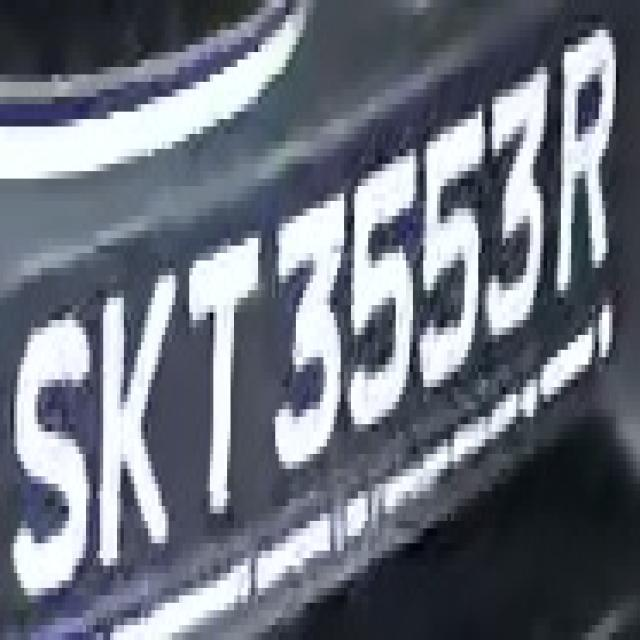3: (272, 171, 347, 469), (475, 60, 554, 342)
5: (348, 127, 417, 439), (420, 82, 482, 417)
K: (100, 253, 179, 573)
R: (558, 22, 620, 320)
S: (14, 276, 96, 610)
T: (165, 216, 262, 521)
